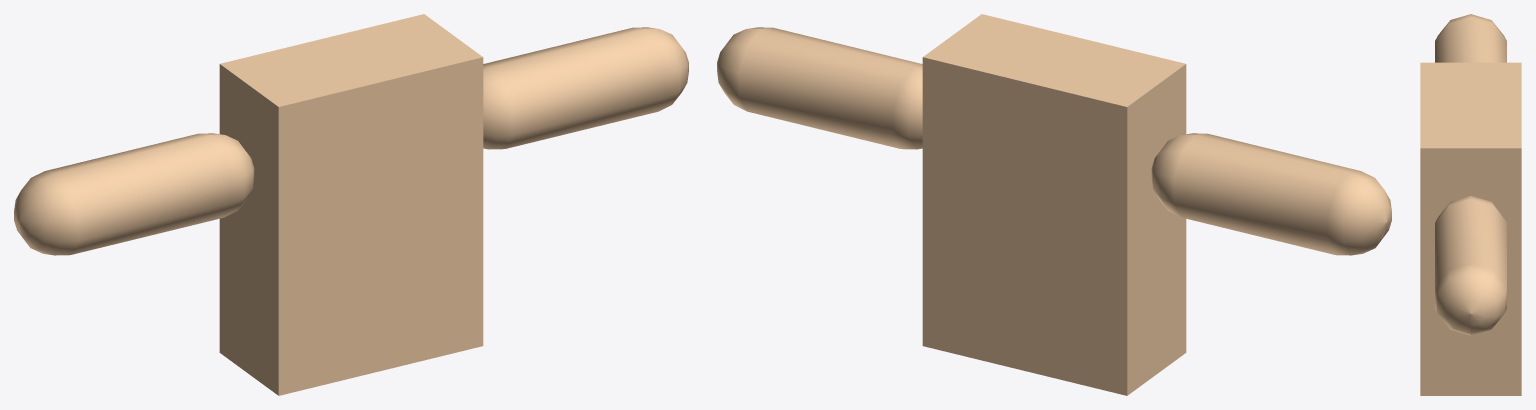
File: hoodie.glb
3 renders of one model, left to right at view 1: azimuth 30°, elevation 25°; view 2: azimuth 150°, elevation 25°; view 3: azimuth 270°, elevation 25°, orthographic. The views are drawn at different scales.
Visible parts, largest first — view 1: hoodie_torso, hoodie_sleeve_L, hoodie_sleeve_R; view 2: hoodie_torso, hoodie_sleeve_L, hoodie_sleeve_R; view 3: hoodie_torso, hoodie_sleeve_R, hoodie_sleeve_L.
Boxes of the visible parts, bbox=[...] form: hoodie_torso: bbox=[219, 14, 483, 395]; hoodie_sleeve_L: bbox=[14, 133, 254, 255]; hoodie_sleeve_R: bbox=[483, 27, 688, 149]; hoodie_torso: bbox=[922, 14, 1186, 395]; hoodie_sleeve_L: bbox=[1151, 133, 1391, 255]; hoodie_sleeve_R: bbox=[717, 27, 922, 149]; hoodie_torso: bbox=[1420, 62, 1521, 395]; hoodie_sleeve_R: bbox=[1435, 196, 1506, 335]; hoodie_sleeve_L: bbox=[1435, 14, 1506, 62].
Bounding box in the file's own units: 1.3 × 0.54 × 0.2.
